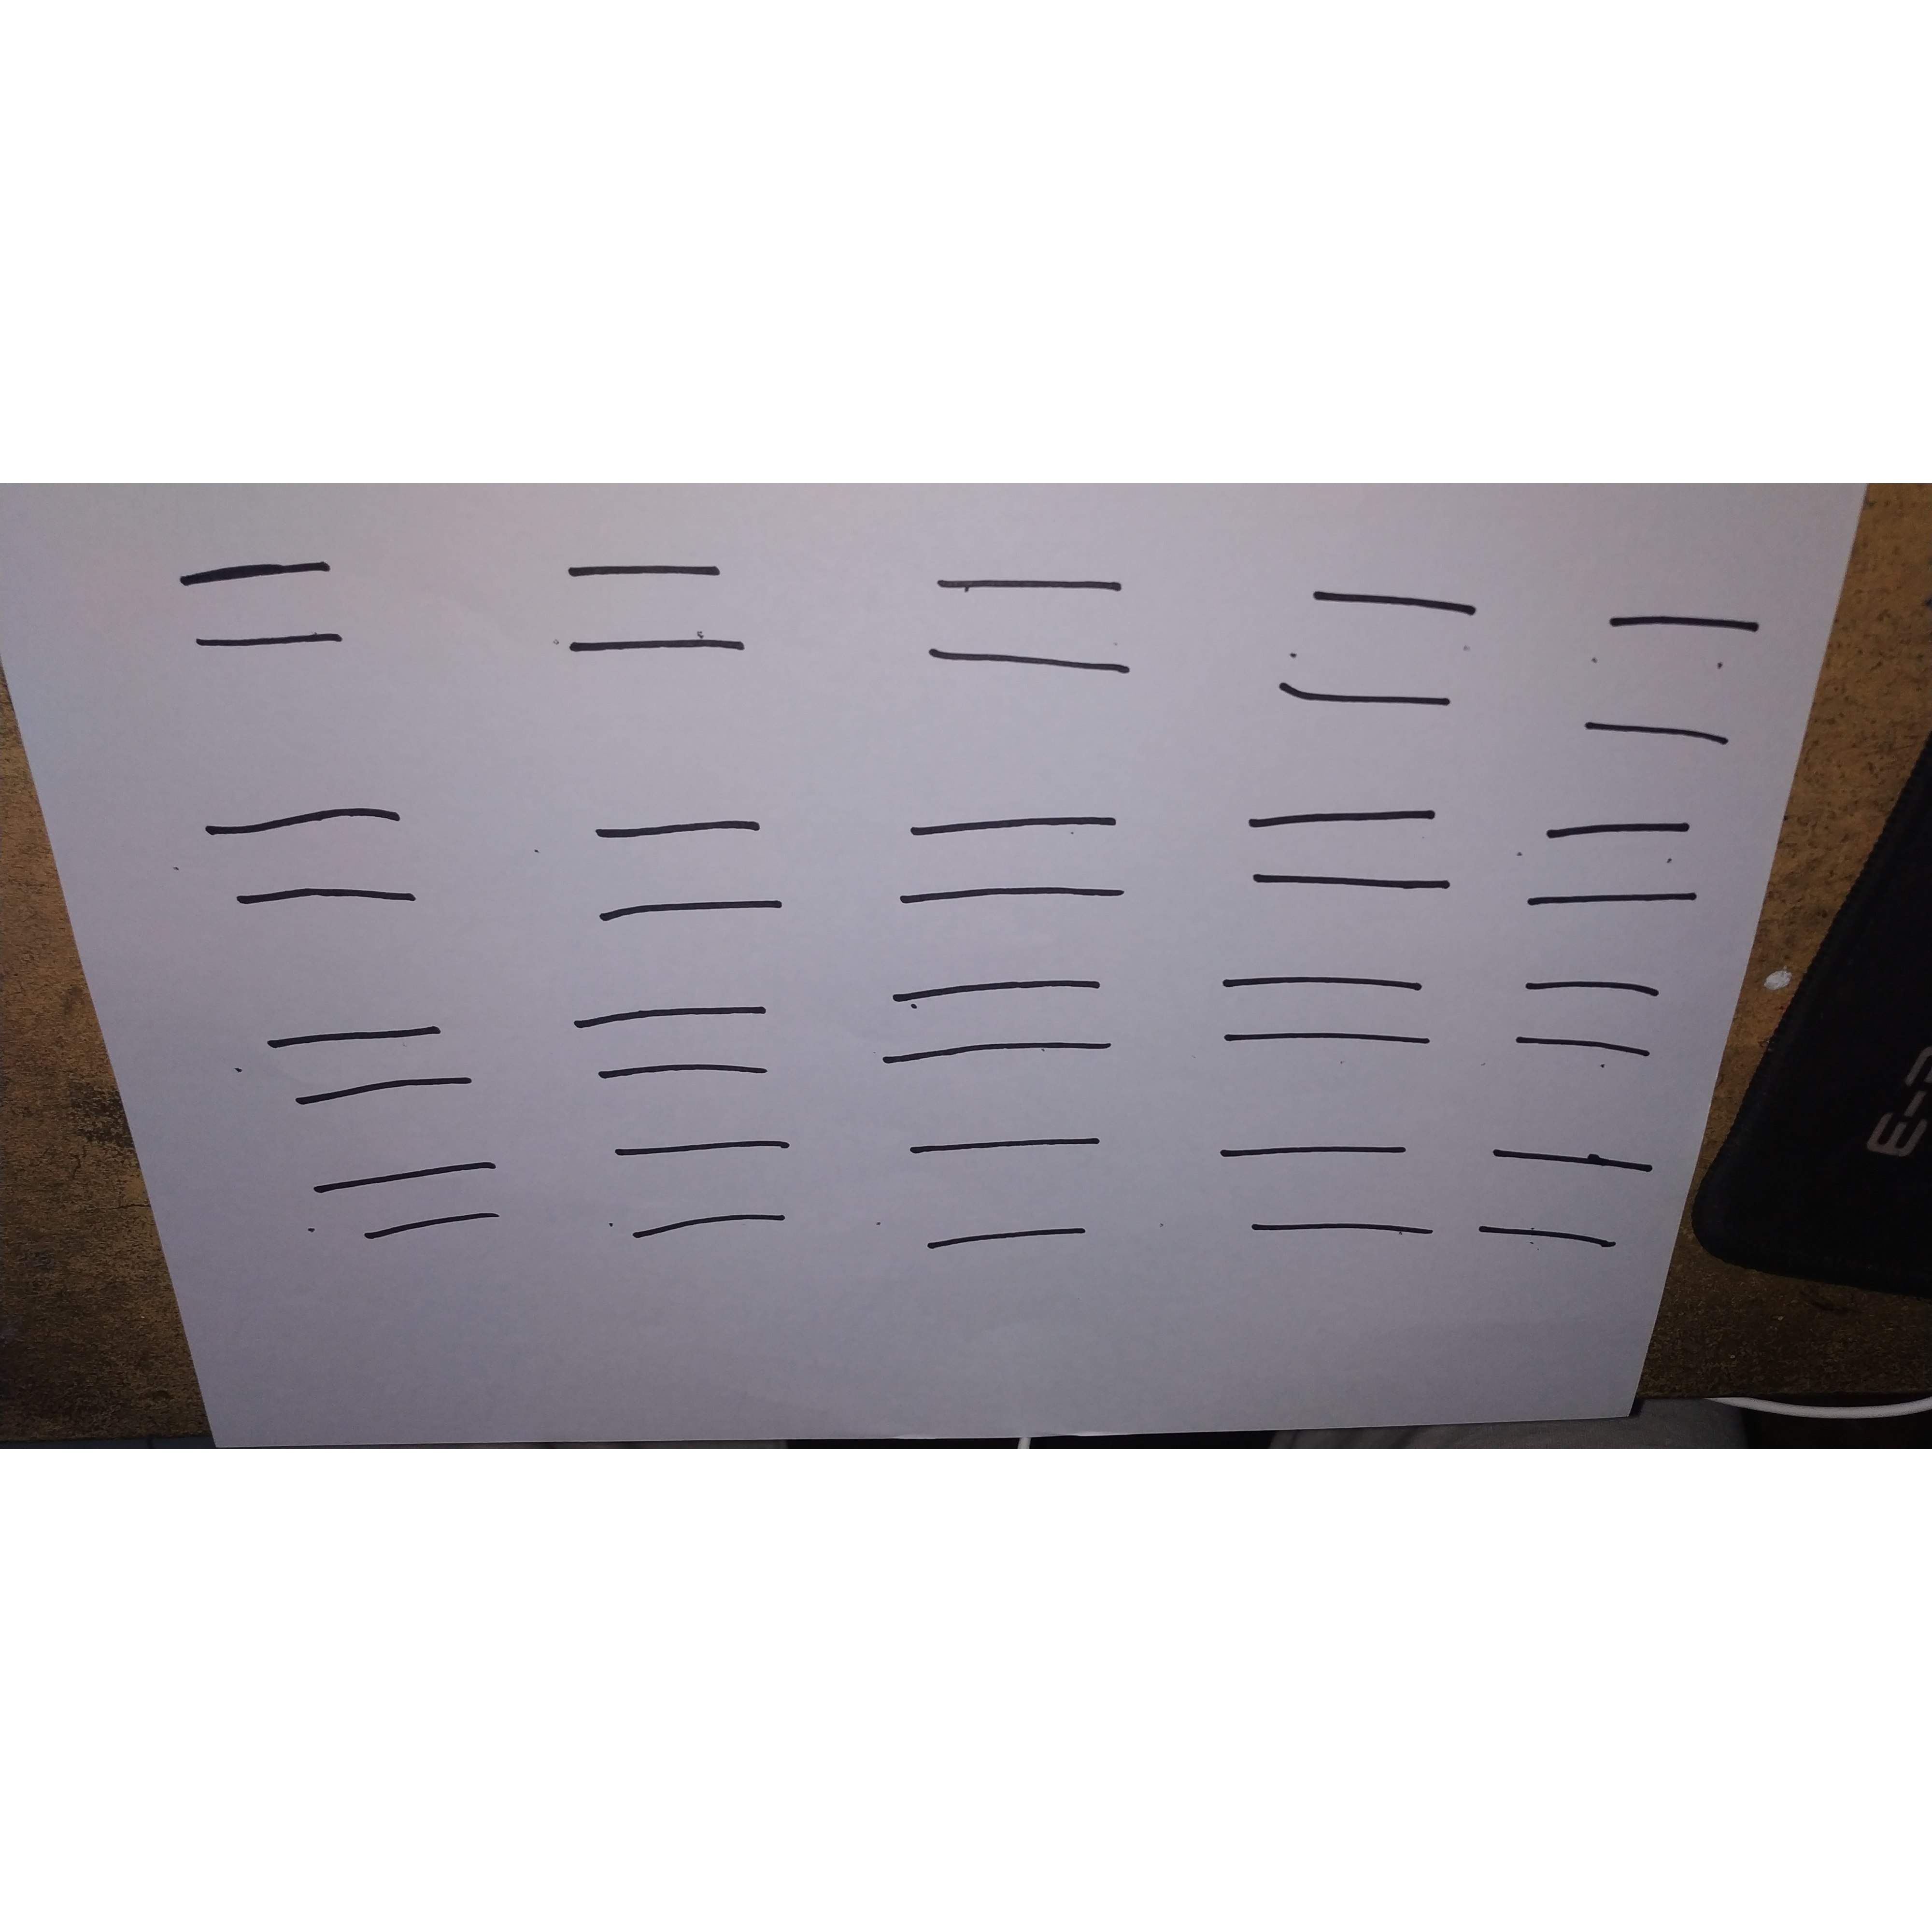equal: (893, 542, 1160, 703), (1254, 569, 1494, 743), (1200, 1117, 1464, 1273), (184, 794, 467, 930), (1565, 592, 1776, 775), (1225, 779, 1479, 926), (866, 957, 1137, 1092), (881, 1130, 1143, 1268), (238, 991, 500, 1128), (574, 800, 813, 947), (540, 538, 776, 682), (879, 796, 1148, 920), (1508, 809, 1748, 943), (152, 538, 375, 672), (291, 1142, 536, 1264), (1469, 1128, 1656, 1279), (553, 983, 799, 1098), (1212, 966, 1452, 1071), (612, 1128, 810, 1243), (1502, 966, 1681, 1088)
